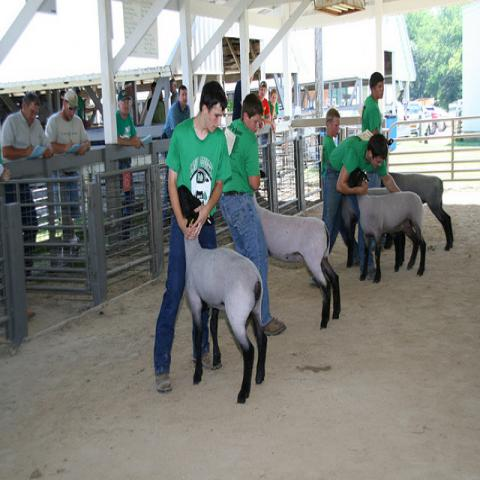car: (409, 101, 434, 144), (433, 105, 453, 131), (424, 105, 436, 116)
